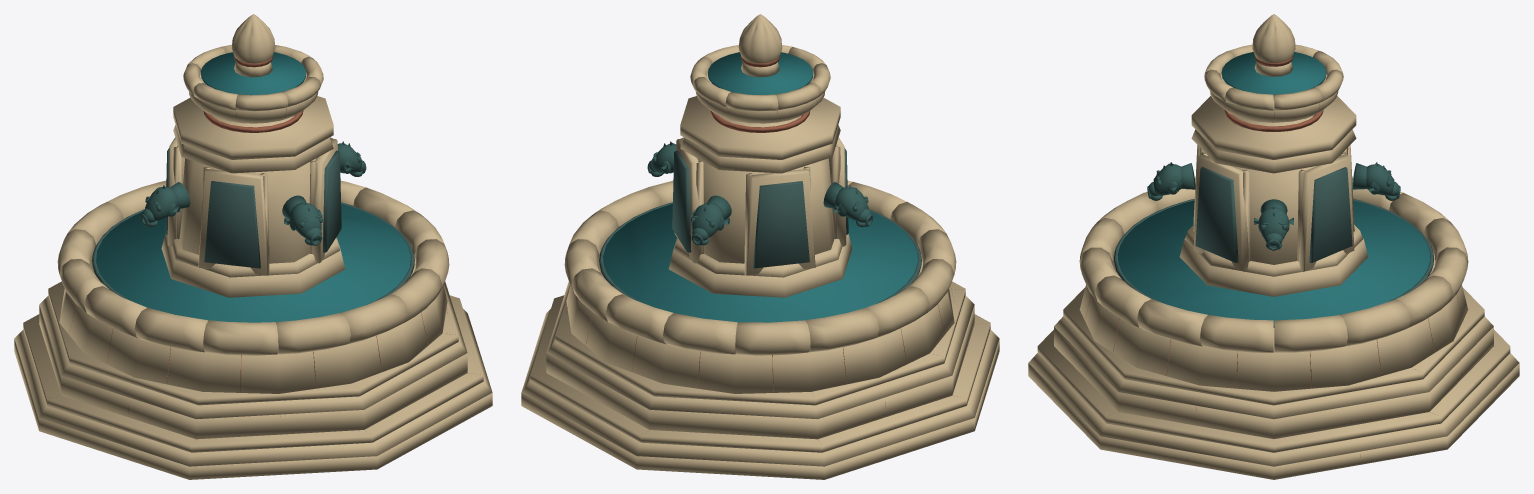
File: PlazaFountain.LOD1.glb
The picture shows the model from 3 angles, left to right: view 1: azimuth 30°, elevation 25°; view 2: azimuth 150°, elevation 25°; view 3: azimuth 270°, elevation 25°; orthographic projection.
Visible parts, largest first — view 1: LOD1; view 2: LOD1; view 3: LOD1.
Boxes of the visible parts, x1=… form: LOD1: x1=14, y1=14, x2=492, y2=479; LOD1: x1=521, y1=14, x2=999, y2=479; LOD1: x1=1028, y1=14, x2=1519, y2=479.
Bounding box in the file's own units: 2.68 × 2.18 × 2.68.
